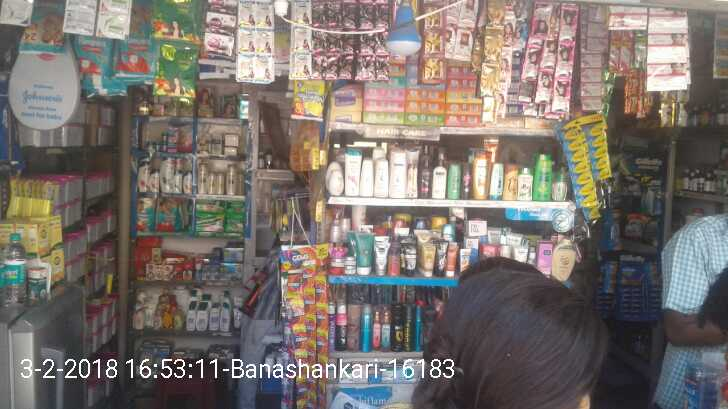beauty: (136, 163, 150, 193), (162, 157, 173, 191), (222, 128, 240, 148), (225, 163, 236, 193), (197, 161, 206, 196), (151, 168, 161, 194), (183, 170, 193, 194)
pharmacy: (152, 199, 185, 233), (224, 208, 244, 235), (195, 214, 221, 233), (166, 128, 178, 152)
